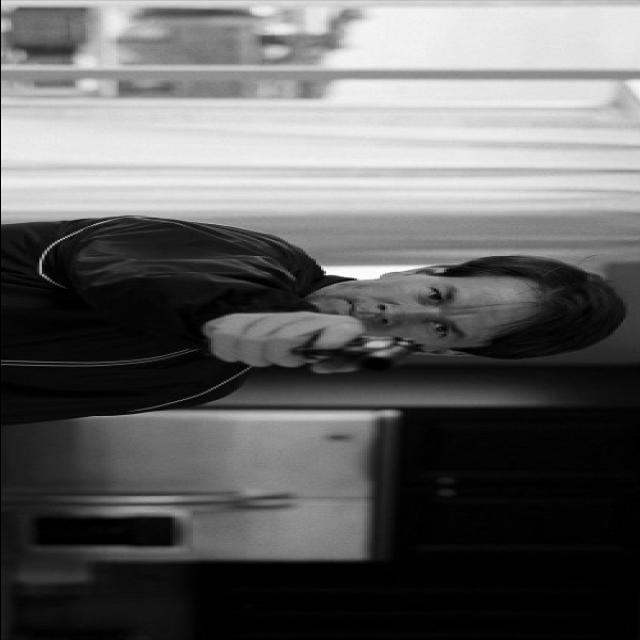weapons: (192, 322, 446, 379)
